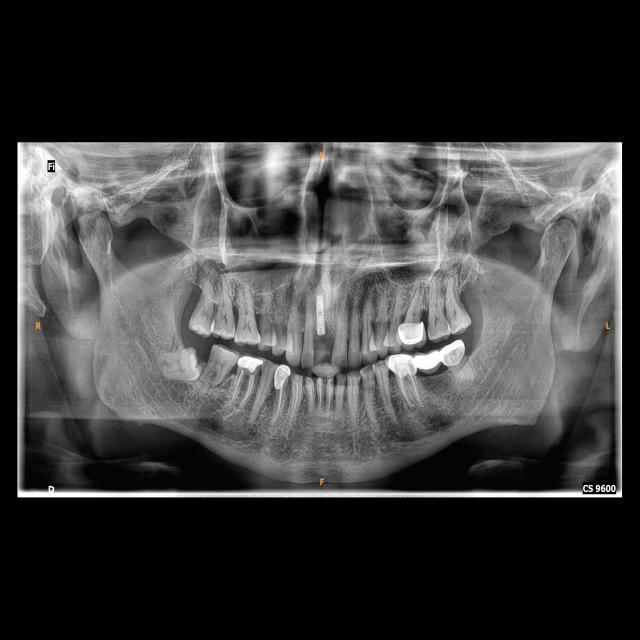implant: (315, 293, 328, 337)
kanal-tedavisi: (397, 374, 423, 410), (234, 370, 253, 408), (290, 383, 300, 422), (275, 386, 284, 420), (326, 384, 334, 412), (307, 385, 314, 412), (318, 384, 323, 409)
kaplama: (388, 353, 417, 377), (441, 343, 467, 367), (399, 322, 426, 344), (238, 356, 264, 372), (274, 362, 290, 388)
kopru: (411, 349, 451, 377)
